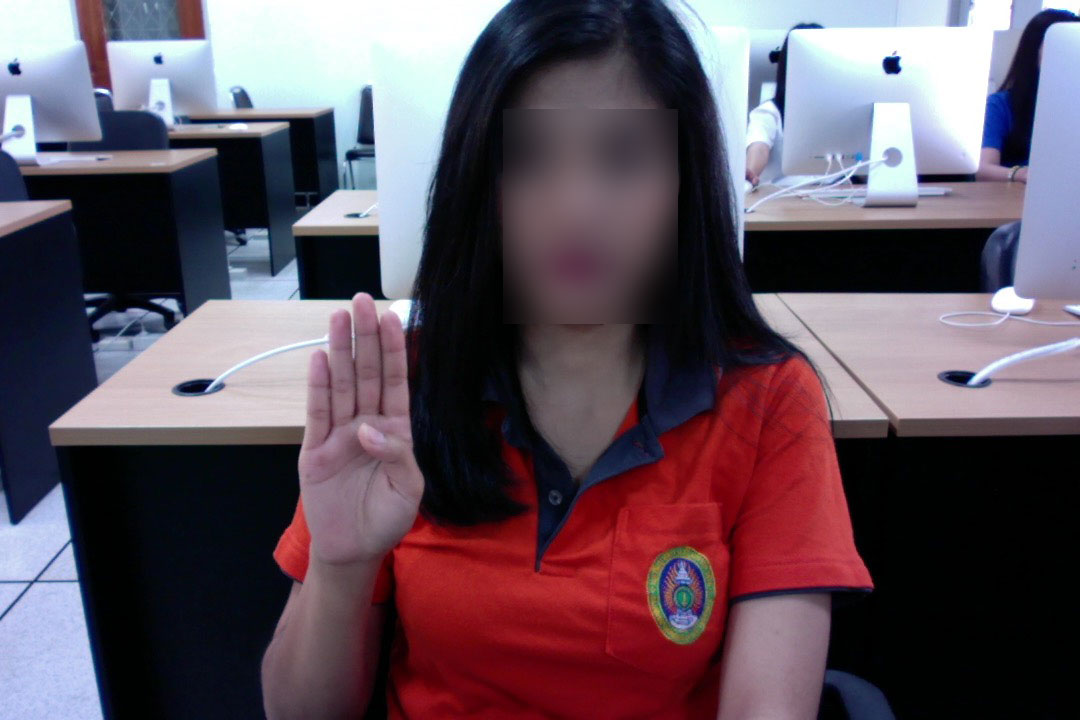bor: (294, 289, 429, 563)
